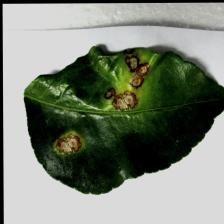canker: (36, 49, 154, 158)
